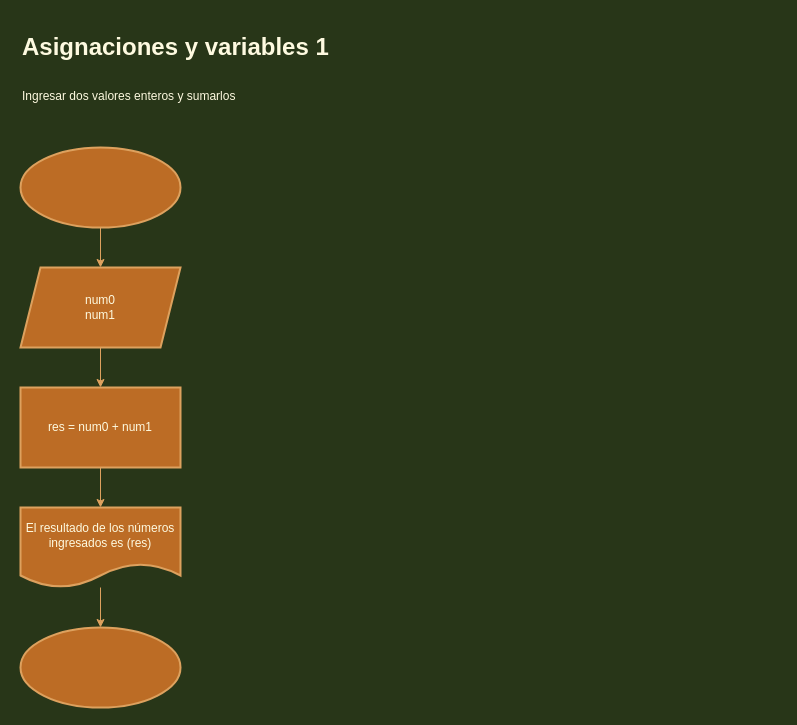
The diagram is 797 pixels wide and 725 high, and some of its shapes have lost their labels. The centre of each missing label's shape, as x and y in pixels:
"Fin" belongs at [100,667].
"Inicio" belongs at [100,187].
